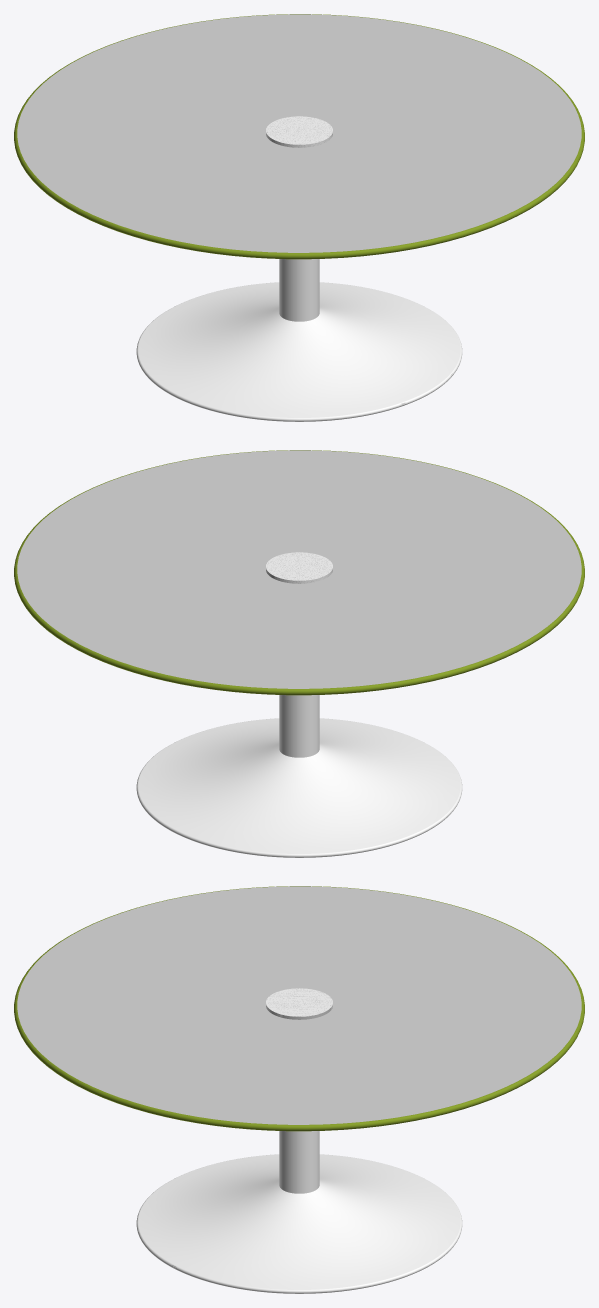
The model's file is table_large_full.dae.
The picture shows the model from 3 angles, top to bottom: view 1: azimuth 30°, elevation 25°; view 2: azimuth 150°, elevation 25°; view 3: azimuth 270°, elevation 25°; orthographic projection.
Parts seen in each view (by area): view 1: instance_0_079, instance_0, instance_0_085, instance_0_082; view 2: instance_0_079, instance_0, instance_0_085, instance_0_082; view 3: instance_0_079, instance_0, instance_0_085, instance_0_082.
Boxes of the visible parts, x1,y1,x2,y2 form: instance_0_079: [17, 14, 581, 252]; instance_0: [136, 259, 462, 421]; instance_0_085: [14, 14, 584, 259]; instance_0_082: [266, 116, 332, 147]; instance_0_079: [17, 450, 581, 688]; instance_0: [136, 695, 462, 857]; instance_0_085: [14, 450, 584, 695]; instance_0_082: [266, 552, 332, 583]; instance_0_079: [17, 886, 581, 1124]; instance_0: [136, 1131, 462, 1293]; instance_0_085: [14, 886, 584, 1131]; instance_0_082: [266, 988, 332, 1017].
Size of the model in its own units: 1.08 by 1.08 by 0.4778.
